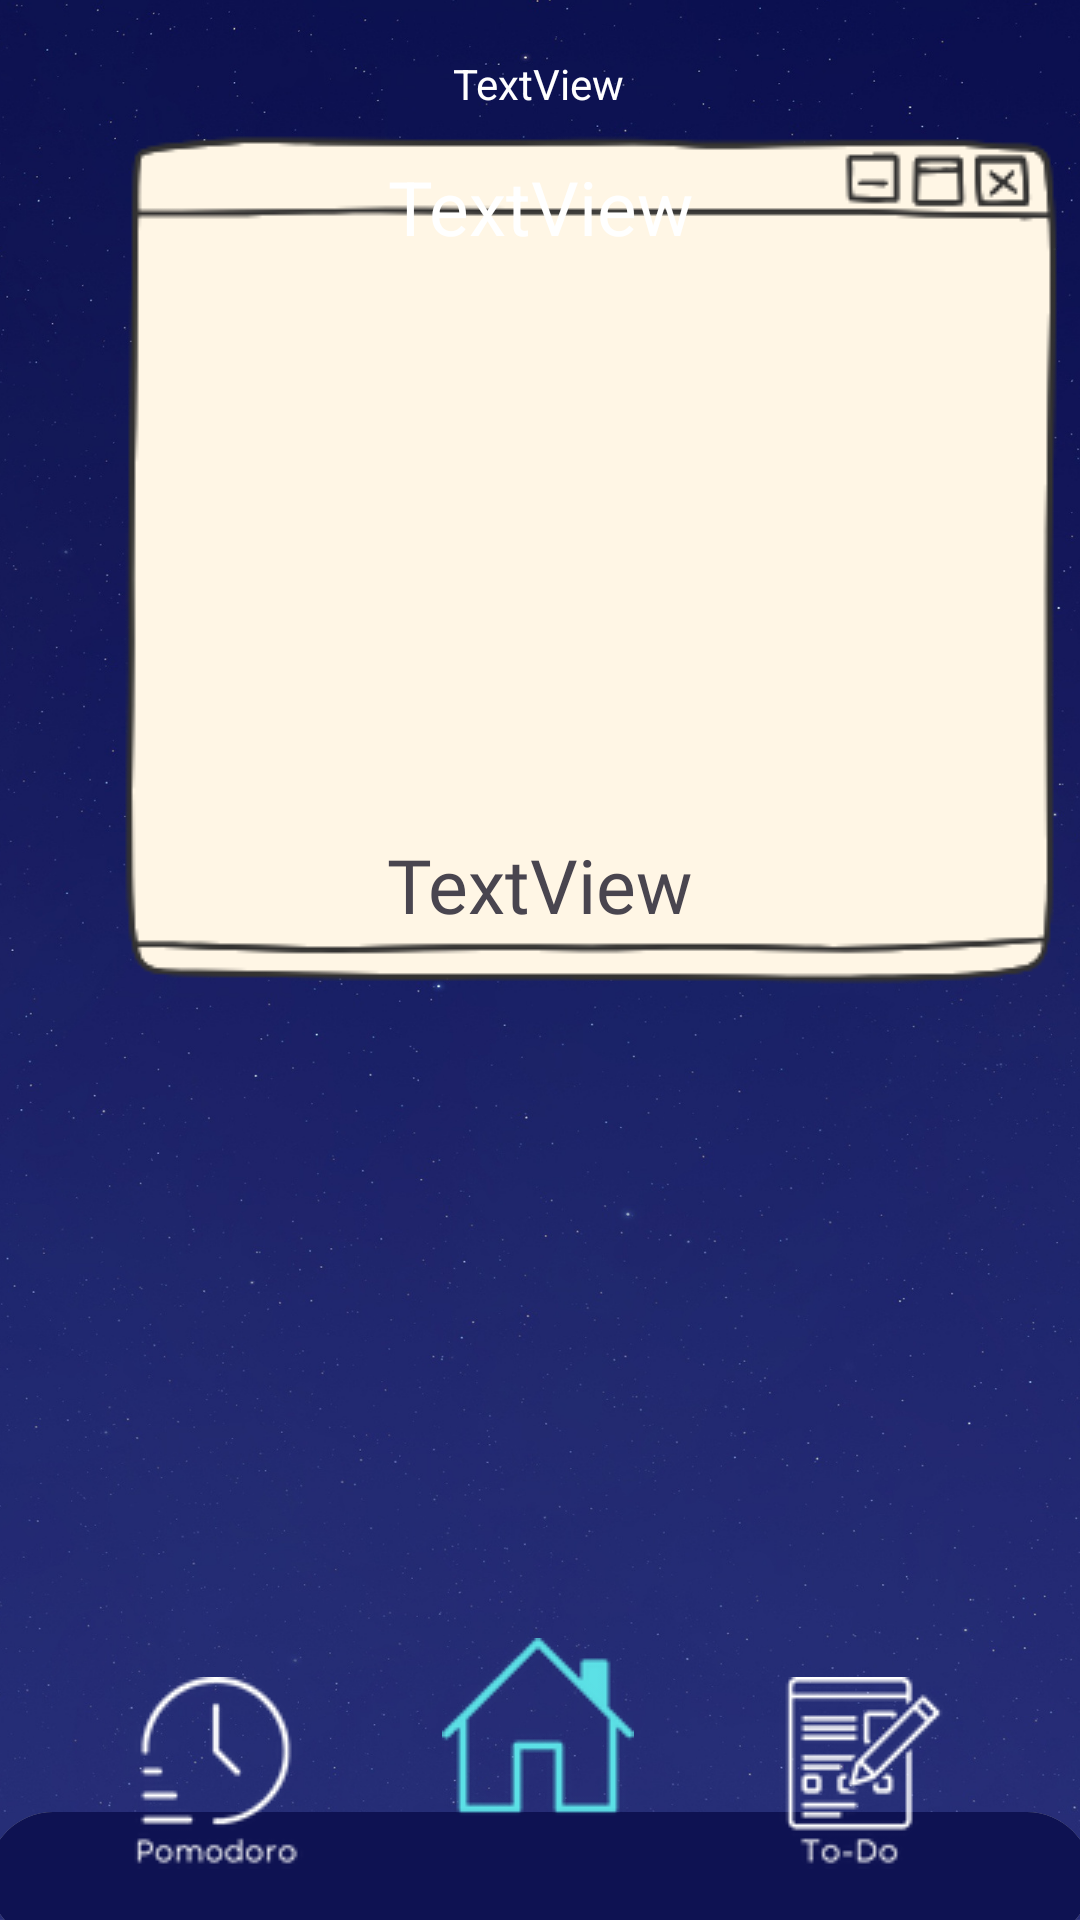

Point at icon controls on the screen. Image size 1080 × 1920, points as [x,y].
isikli home: [538,1734]
